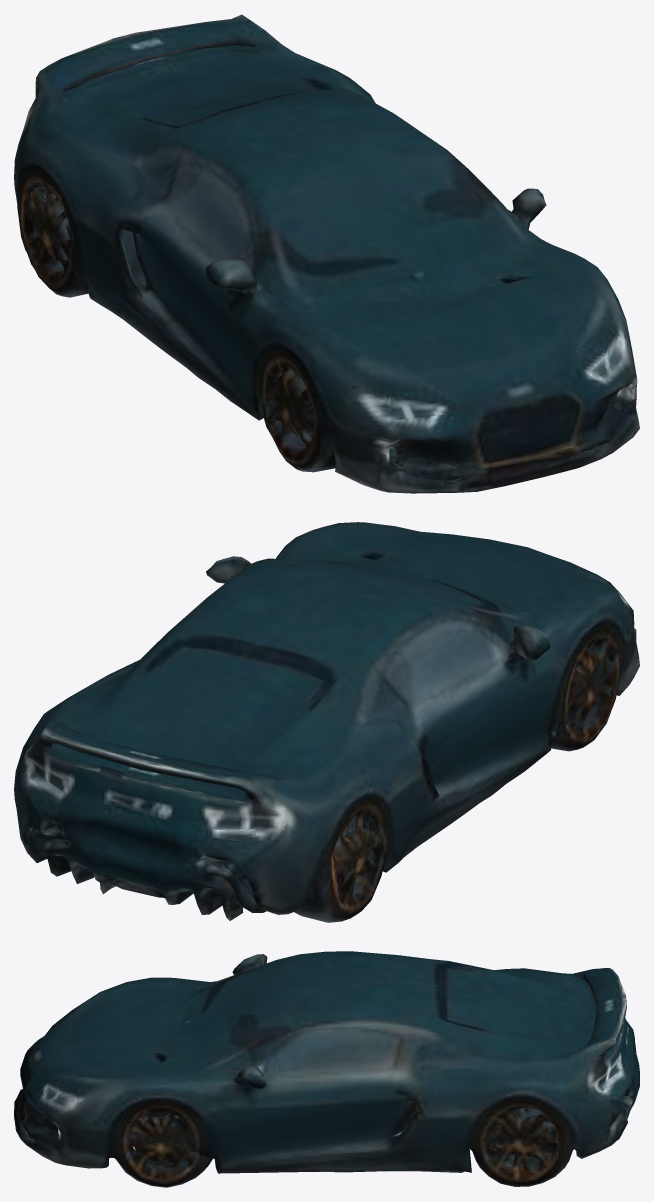
Rendered from dk-meshy-vibranium-lite.glb.
3 views of the same model, one above another, from view 1: azimuth 30°, elevation 25°; view 2: azimuth 150°, elevation 25°; view 3: azimuth 270°, elevation 25° (orthographic). The views are drawn at different scales.
Bounding box in the file's own units: 0.931 × 0.5513 × 1.99.
Materials: 1 (1 with a texture image).
